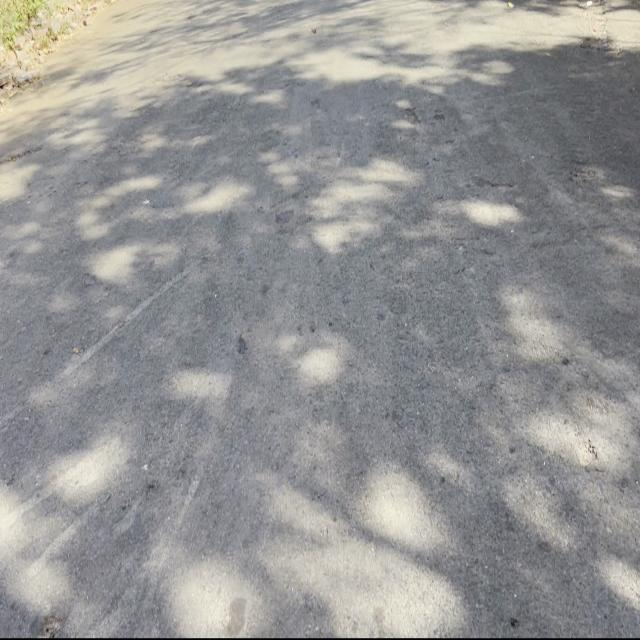Road: (6, 16, 634, 630)
